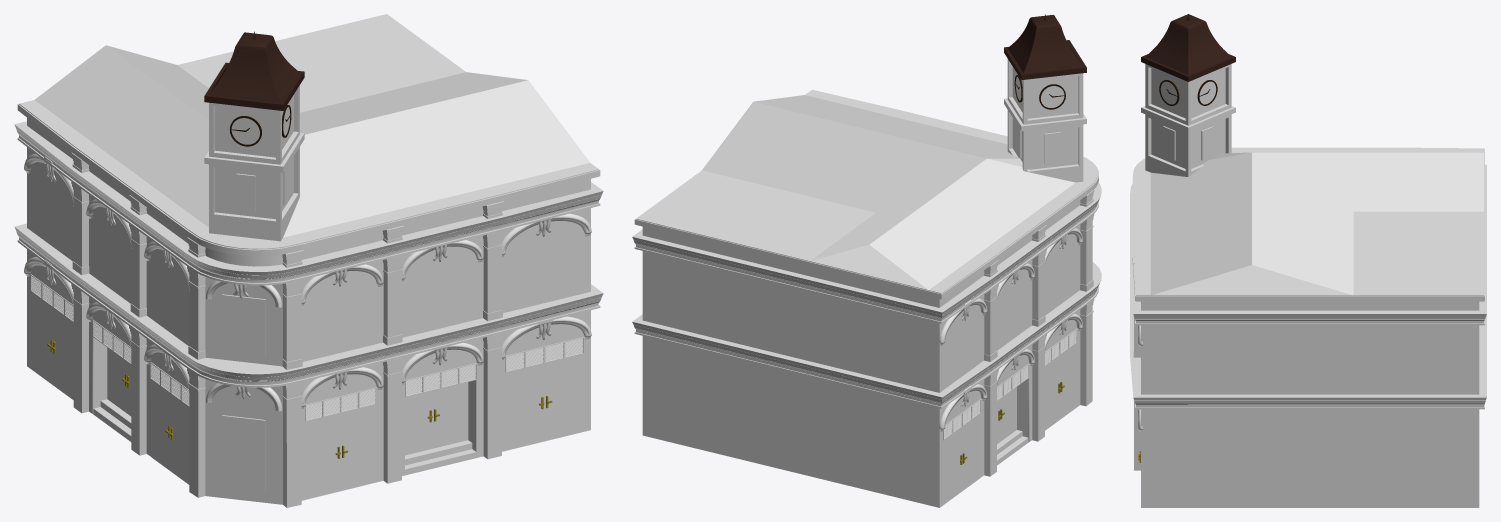
Rendered from Spv4.fbx.
The picture shows the model from 3 angles, left to right: view 1: azimuth 30°, elevation 25°; view 2: azimuth 150°, elevation 25°; view 3: azimuth 270°, elevation 25°; orthographic projection. The views are drawn at different scales.
Visible parts, largest first — view 1: SinoPortugueseMerge; view 2: SinoPortugueseMerge; view 3: SinoPortugueseMerge.
Part boxes in pixels (x1,y1,x2,y2): SinoPortugueseMerge: (14, 14, 603, 507); SinoPortugueseMerge: (632, 14, 1101, 507); SinoPortugueseMerge: (1130, 14, 1486, 507).
Size of the model in its own units: 2.64 by 3.03 by 2.64.
